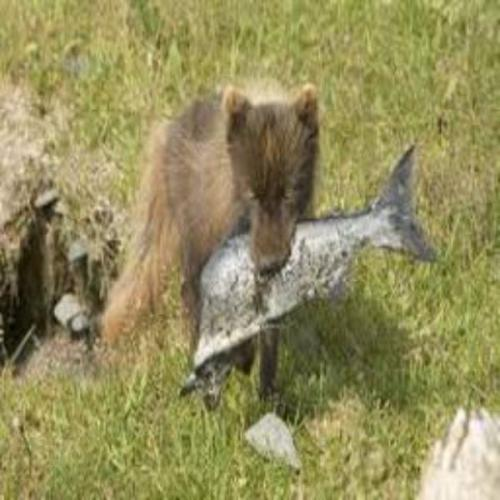arctic_fox-endangered: (100, 79, 321, 398)
